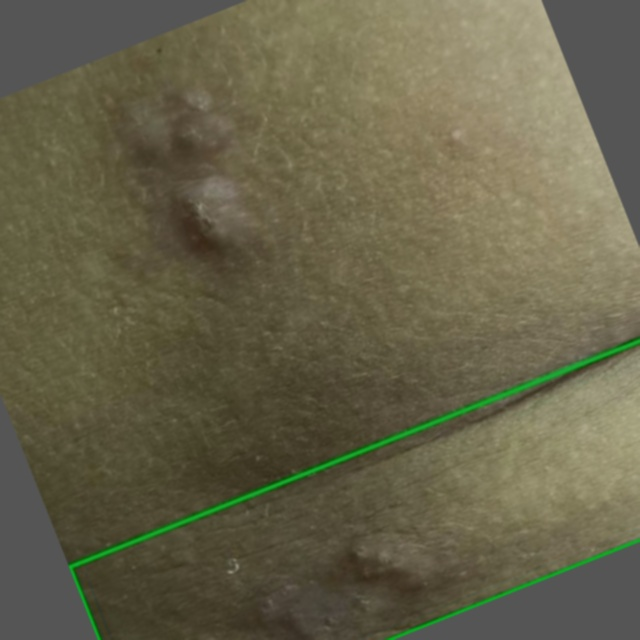Scabies: (69, 340, 639, 639)
